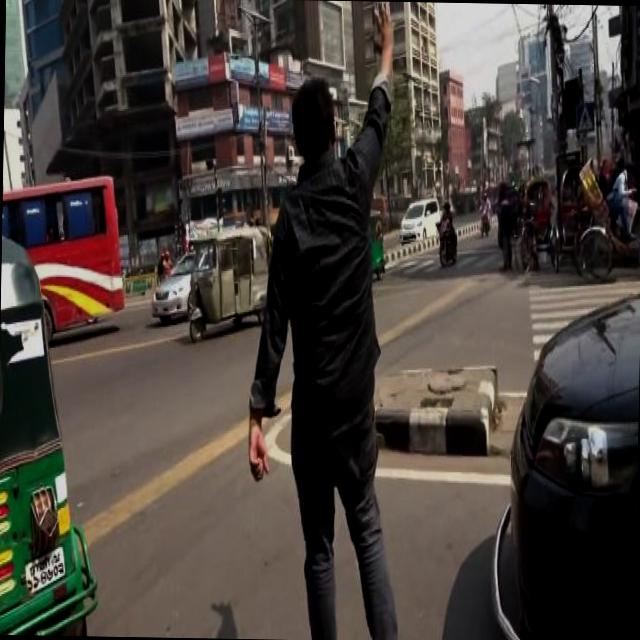bus: (0, 166, 126, 334), (368, 192, 411, 228)
car: (503, 284, 638, 640), (148, 246, 192, 316)
motorcycle: (0, 229, 102, 635), (185, 222, 268, 339), (576, 152, 640, 283), (512, 170, 552, 274), (552, 165, 586, 272), (368, 209, 384, 277), (435, 219, 456, 265), (478, 208, 488, 235)
truck: (398, 193, 440, 242)
